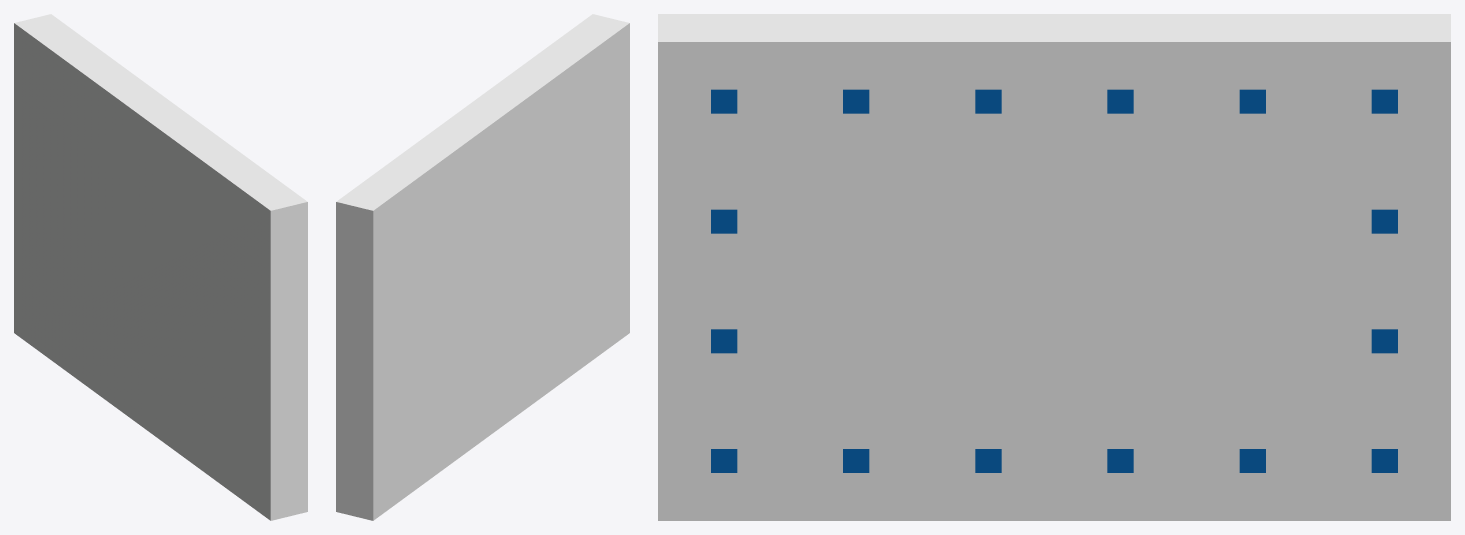
Rendered from Wall3.fbx.
The picture shows the model from 3 angles, left to right: view 1: azimuth 30°, elevation 25°; view 2: azimuth 150°, elevation 25°; view 3: azimuth 270°, elevation 25°; orthographic projection. The views are drawn at different scales.
Visible parts, largest first — view 1: Stage_Wall_3:Mesh; view 2: Stage_Wall_3:Mesh; view 3: Stage_Wall_3:Mesh.
Boxes of the visible parts, x1,y1,x2,y2 form: Stage_Wall_3:Mesh: [14, 14, 307, 520]; Stage_Wall_3:Mesh: [336, 14, 629, 520]; Stage_Wall_3:Mesh: [658, 14, 1450, 520].
Bounding box in the file's own units: 5 × 40 × 60.
1 material, 1 textured.
